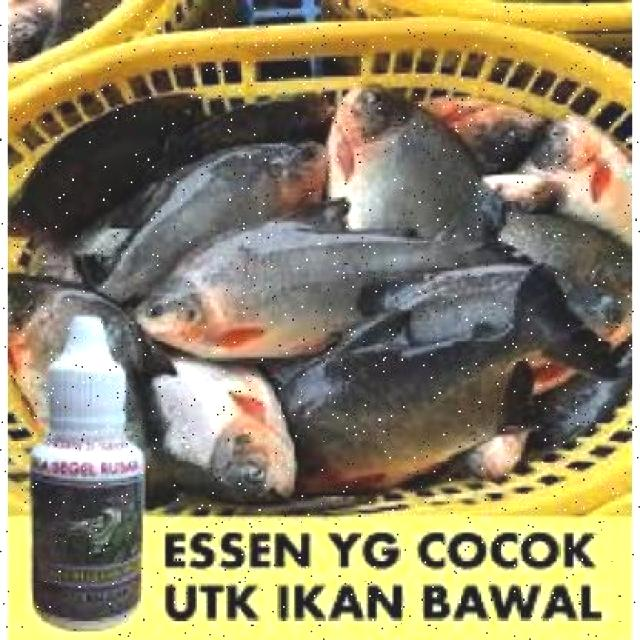ikan-pacu: (274, 298, 582, 484), (132, 212, 468, 352), (135, 354, 311, 504), (322, 80, 476, 240)
